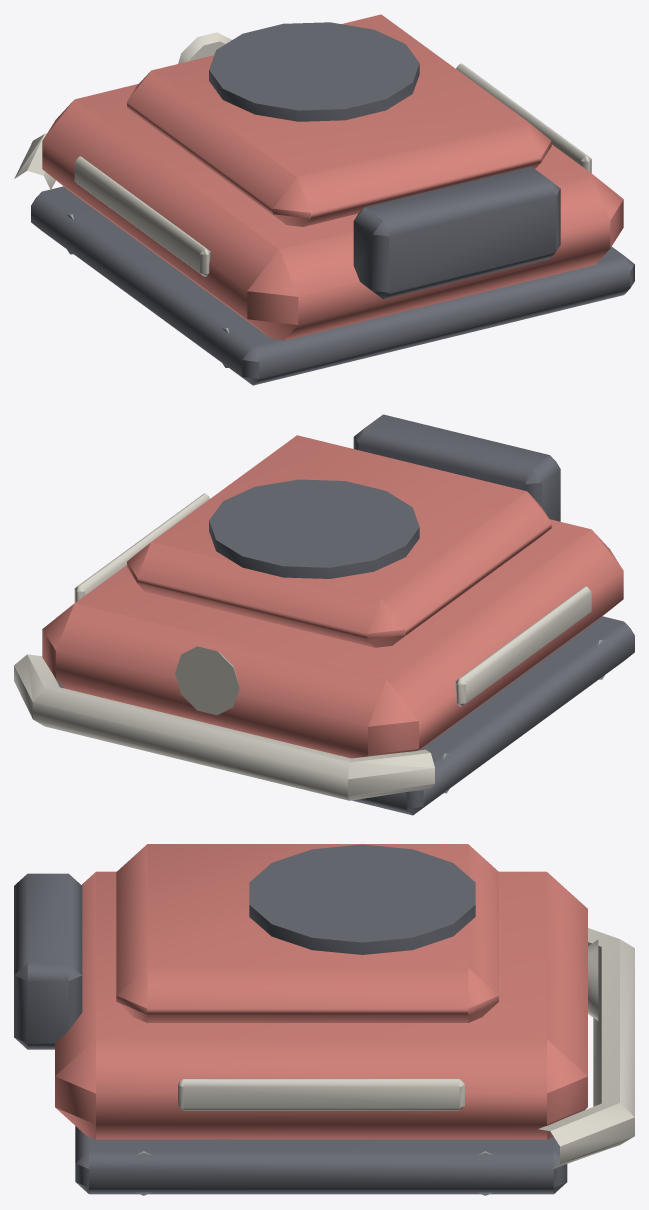
File: mower_deck_0.gltf
The picture shows the model from 3 angles, top to bottom: view 1: azimuth 30°, elevation 25°; view 2: azimuth 150°, elevation 25°; view 3: azimuth 270°, elevation 25°; orthographic projection. The views are drawn at different scales.
Visible parts, largest first — view 1: mower_deck_0; view 2: mower_deck_0; view 3: mower_deck_0.
Boxes of the visible parts, <box> form: mower_deck_0: <box>14,14,634,385</box>; mower_deck_0: <box>14,414,634,815</box>; mower_deck_0: <box>14,844,634,1195</box>.
Size of the model in its own units: 0.7829 by 0.325 by 0.9088.
